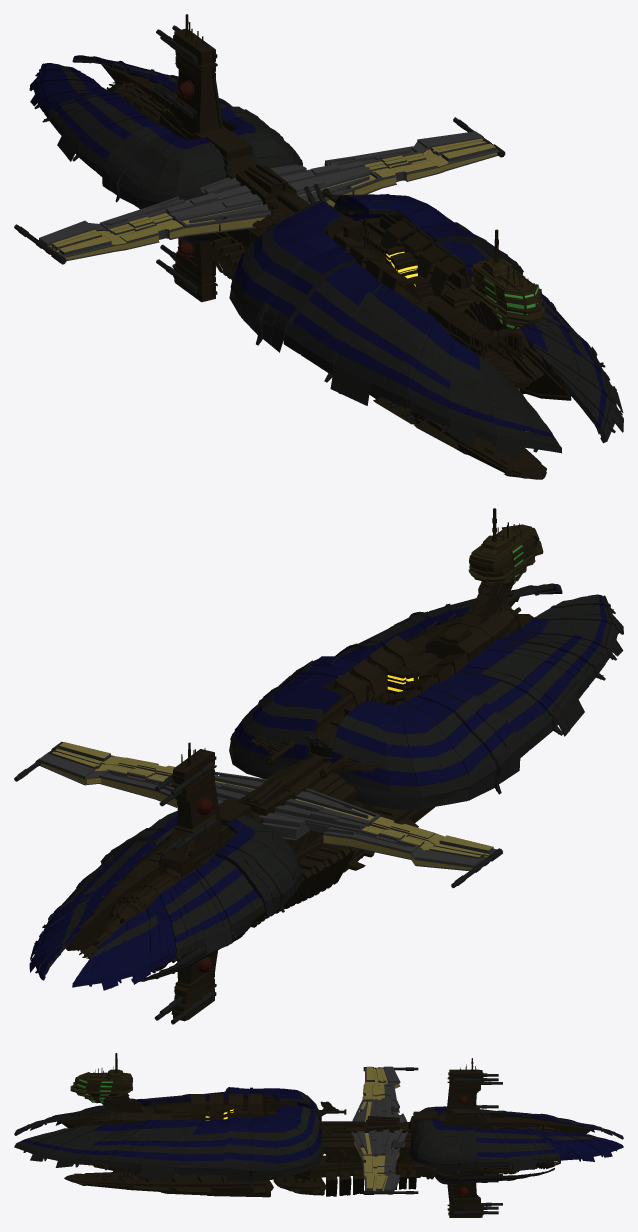
The model's file is modelDraco-transformed.glb.
3 renders of one model, top to bottom at view 1: azimuth 30°, elevation 25°; view 2: azimuth 150°, elevation 25°; view 3: azimuth 270°, elevation 25°, orthographic. The views are drawn at different scales.
Parts seen in each view (by area): view 1: Munificent Class Star Frigate Spaceship_0; view 2: Munificent Class Star Frigate Spaceship_0; view 3: Munificent Class Star Frigate Spaceship_0.
Part boxes in pixels (<box>): Munificent Class Star Frigate Spaceship_0: <box>14,14,623,479</box>; Munificent Class Star Frigate Spaceship_0: <box>14,508,623,1024</box>; Munificent Class Star Frigate Spaceship_0: <box>14,1053,623,1217</box>.
Size of the model in its own units: 799 by 483 by 1643.
